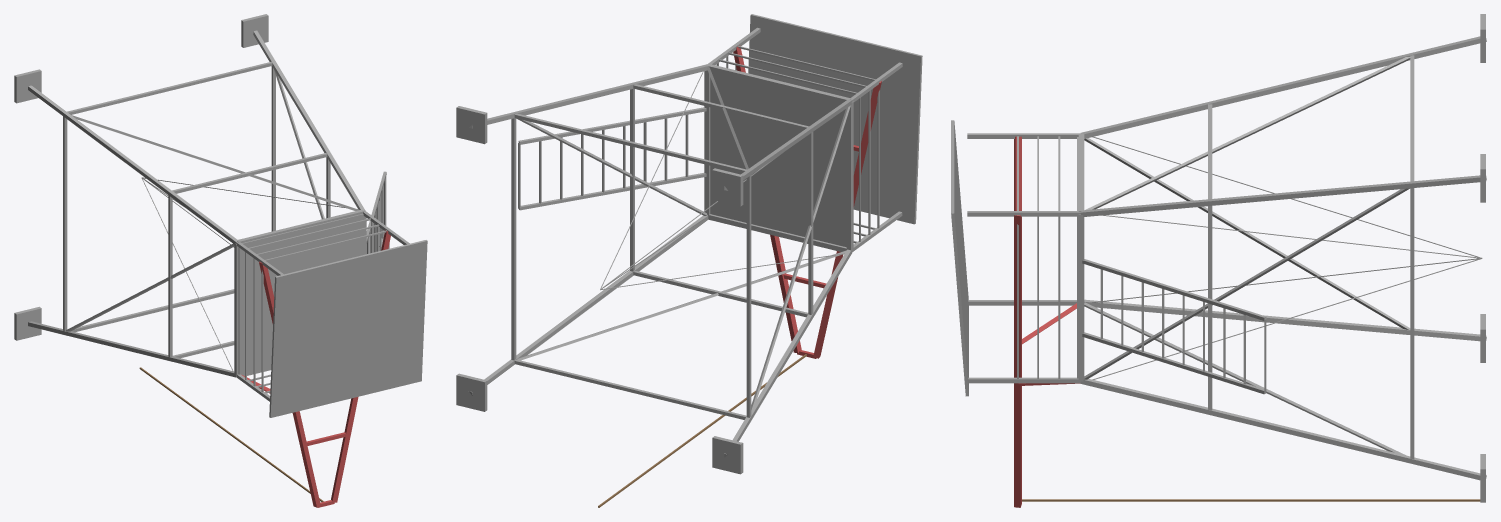
File: tower_aframe_with_knee_braces.glb
3 renders of one model, left to right at view 1: azimuth 30°, elevation 25°; view 2: azimuth 150°, elevation 25°; view 3: azimuth 270°, elevation 25°, orthographic. The views are drawn at different scales.
Visible parts, largest first — view 1: roof, platform_deck, leg_4, leg_1, leg_3, aframe_left_stick, lower_ring_4, lower_ring_3, diag_face_3, aframe_right_stick, lower_ring_1, upper_ring_4 (+10 smaller); view 2: platform_deck, roof, leg_2, leg_3, leg_1, lower_ring_2, lower_ring_4, aframe_left_stick, diag_face_4, lower_ring_1, lower_ring_3, platform_frame_4 (+18 smaller); view 3: leg_2, leg_3, leg_4, leg_1, roof, aframe_right_stick, diag_face_2, diag_face_4, diag_face_3, diag_face_1, climbing_rope, lower_ring_2 (+12 smaller).
Boxes of the visible parts, left/top/right/bottom form: roof: left=269, top=240, right=427, bottom=417; platform_deck: left=238, top=214, right=365, bottom=375; leg_4: left=28, top=85, right=237, bottom=244; leg_1: left=28, top=321, right=236, bottom=377; leg_3: left=253, top=30, right=365, bottom=210; aframe_left_stick: left=259, top=261, right=320, bottom=507; lower_ring_4: left=63, top=116, right=67, bottom=331; lower_ring_3: left=67, top=61, right=272, bottom=114; diag_face_3: left=71, top=115, right=359, bottom=210; aframe_right_stick: left=331, top=230, right=390, bottom=502; lower_ring_1: left=71, top=289, right=234, bottom=331; upper_ring_4: left=168, top=195, right=172, bottom=357; platform_deck: left=710, top=71, right=846, bottom=247; roof: left=748, top=14, right=922, bottom=224; leg_2: left=469, top=215, right=708, bottom=395; leg_3: left=469, top=64, right=708, bottom=128; leg_1: left=724, top=249, right=852, bottom=457; lower_ring_2: left=511, top=118, right=516, bottom=360; lower_ring_4: left=746, top=175, right=751, bottom=417; aframe_left_stick: left=813, top=81, right=881, bottom=358; diag_face_4: left=751, top=105, right=850, bottom=414; lower_ring_1: left=514, top=359, right=746, bottom=419; lower_ring_3: left=514, top=113, right=746, bottom=173; platform_frame_4: left=846, top=101, right=853, bottom=251; leg_2: left=1080, top=378, right=1486, bottom=480; leg_3: left=1080, top=175, right=1486, bottom=216; leg_4: left=1080, top=36, right=1486, bottom=138; leg_1: left=1084, top=299, right=1486, bottom=341; roof: left=951, top=120, right=968, bottom=396; aframe_right_stick: left=1014, top=215, right=1021, bottom=507; diag_face_2: left=1084, top=188, right=1409, bottom=379; diag_face_4: left=1084, top=138, right=1410, bottom=329; diag_face_3: left=1085, top=57, right=1410, bottom=209; diag_face_1: left=1084, top=302, right=1405, bottom=455; climbing_rope: left=1022, top=499, right=1480, bottom=501; lower_ring_2: left=1410, top=188, right=1414, bottom=459.
Size of the model in its own units: 6.88 by 7.51 by 8.88.
